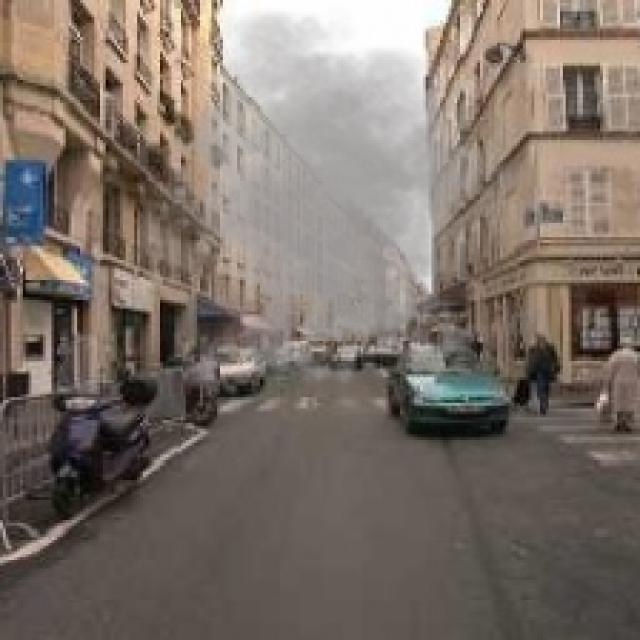smoke: (117, 3, 540, 408)
